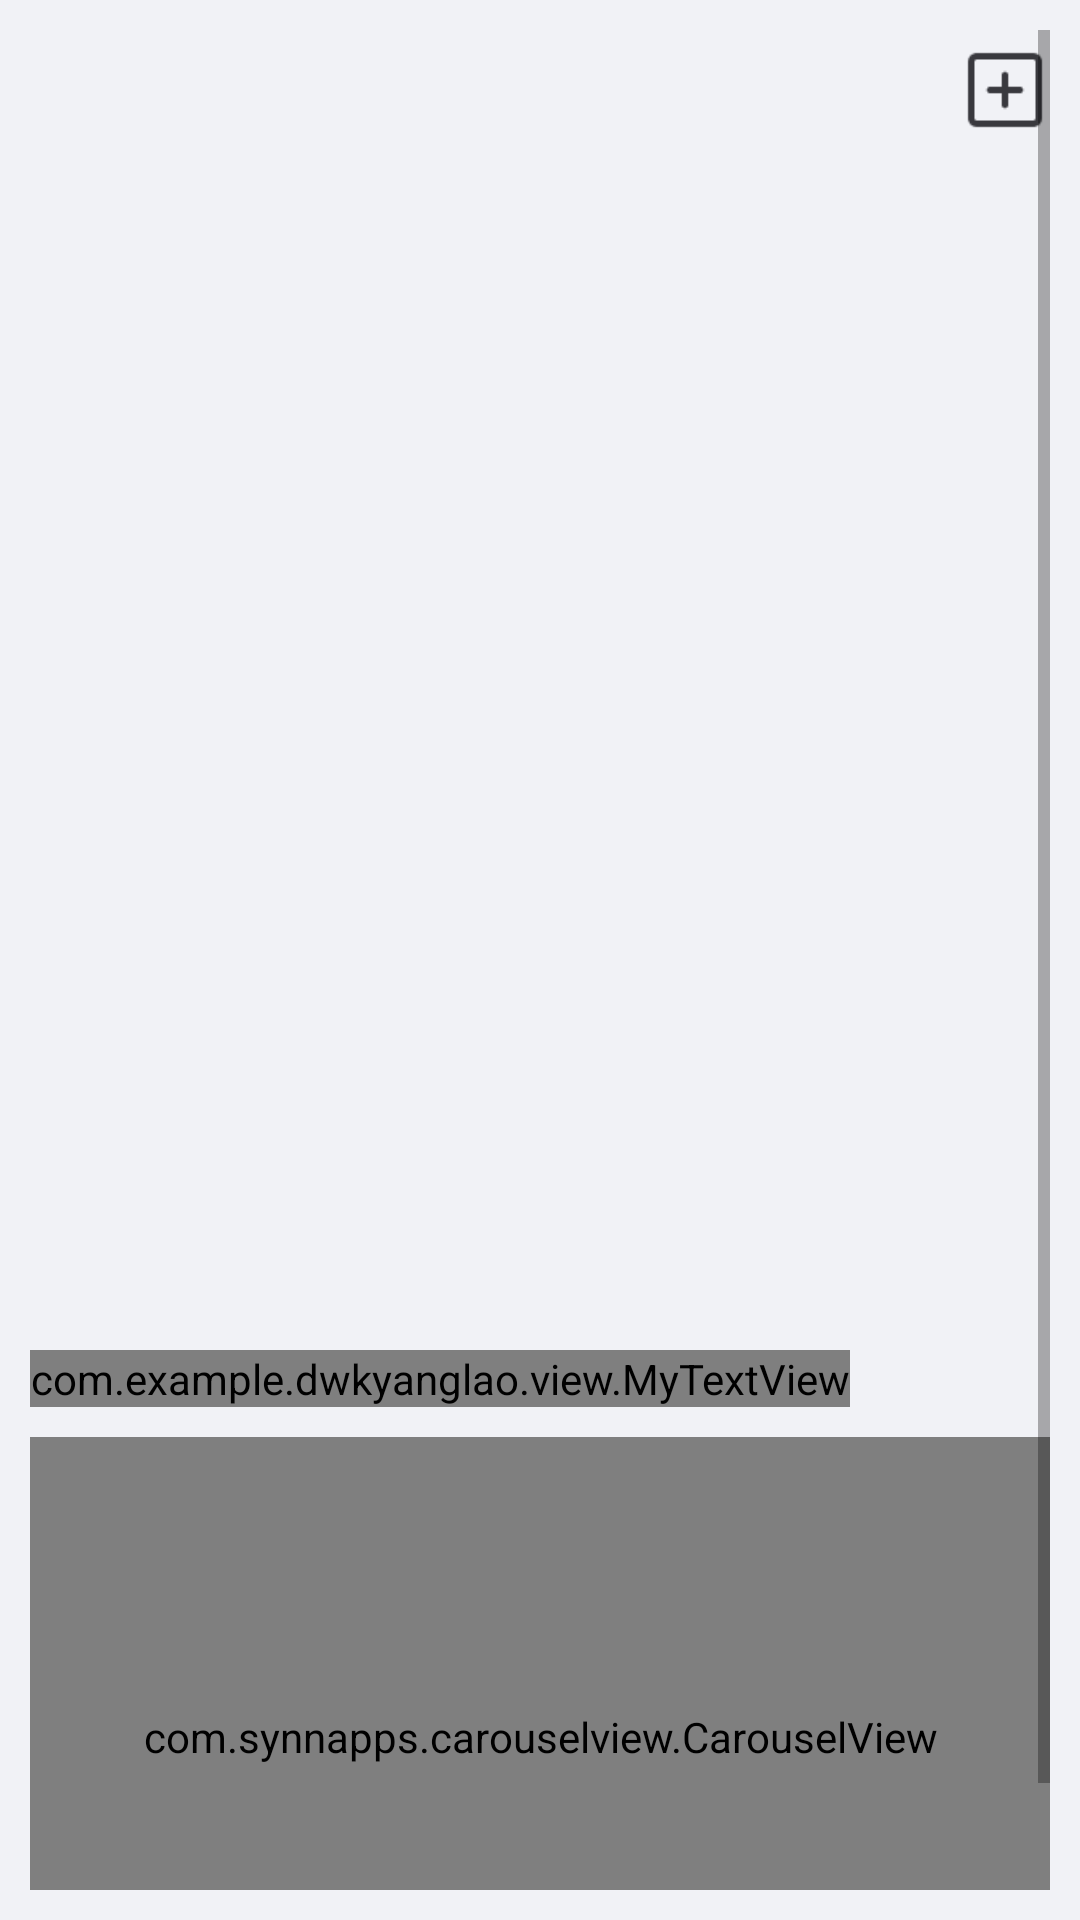

Icons on this 1080*1920 Android screen, each with the point to tap as point (x, y):
tianjia: point (1008, 90)
